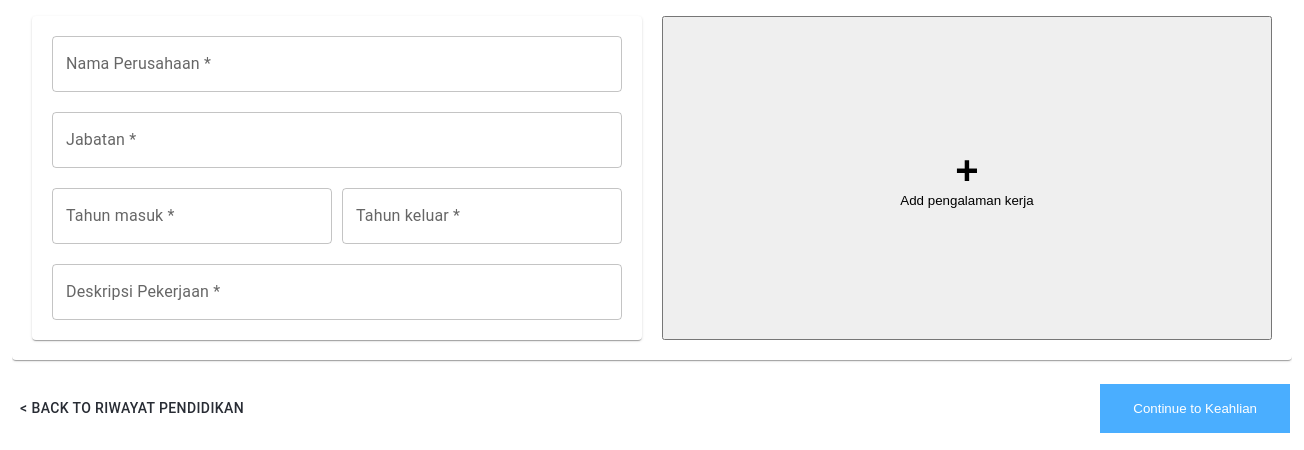
Test: PengalamanKerja › renders new field when add pengalaman kerja btn is clicked
The width and height of the screenshot is (1304, 450).
Expected: the number of fields labelled "Nama Perusahaan *" is 1, [52, 36, 622, 92]
Click the button with test id "add-pengalaman-kerja": coordinates (967, 178) [662, 16, 1272, 340]
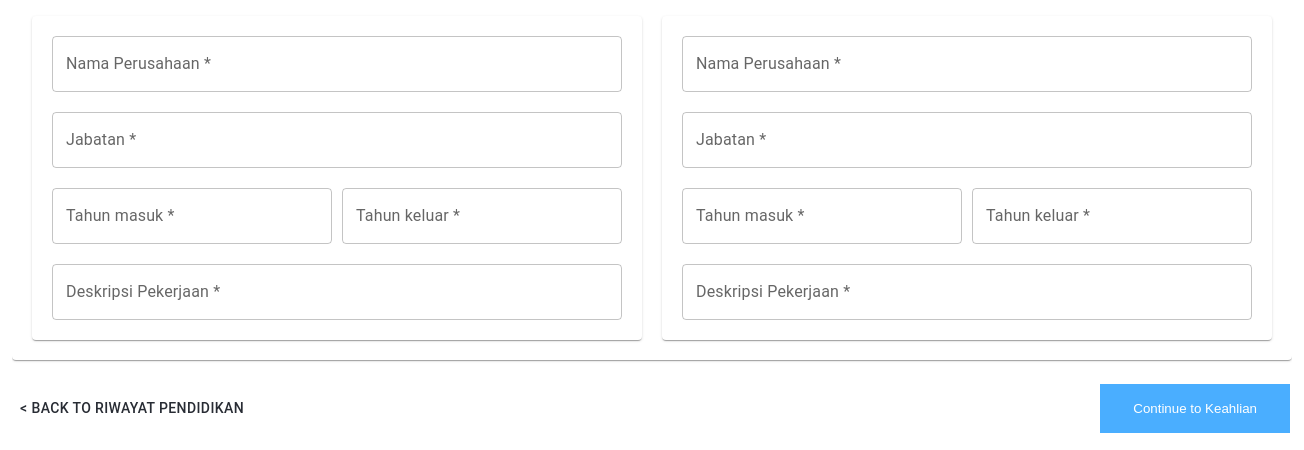
Expected: the number of fields labelled "Nama Perusahaan *" is 2, [52, 36, 622, 92]; [682, 36, 1252, 92]
Expected: the button with test id "add-pengalaman-kerja" is gone
